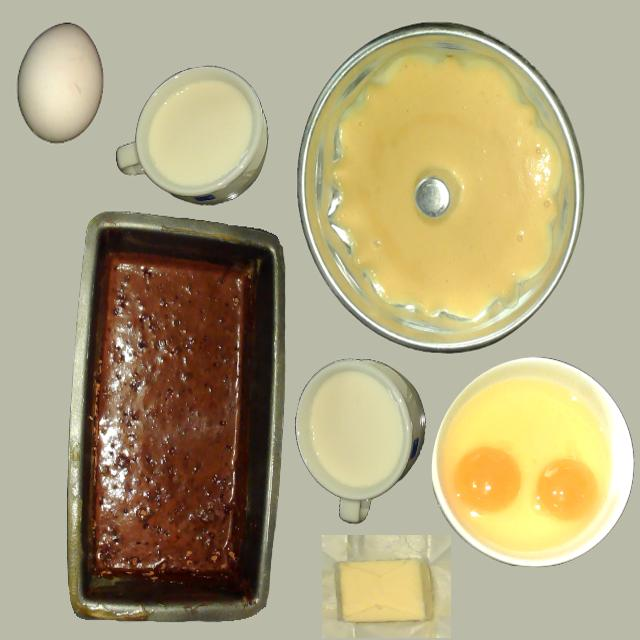Egg: (452, 446, 522, 514), (535, 458, 597, 521)
Milk: (308, 370, 408, 492), (146, 79, 254, 189)
